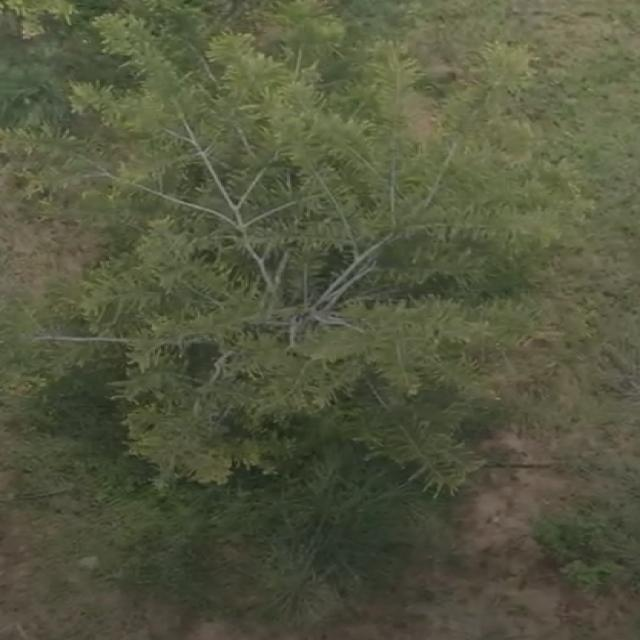notMangoTree: (23, 0, 525, 493)
